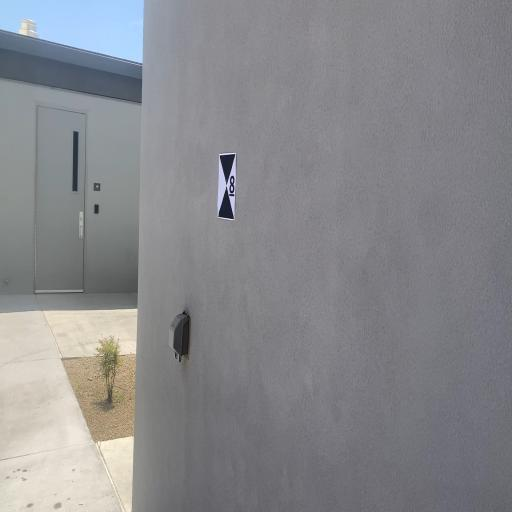target8: (216, 152, 237, 220)
